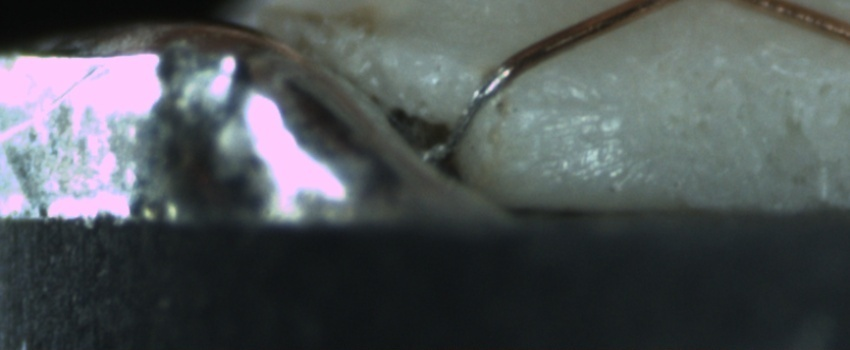DL: (505, 86, 627, 129)
TS: (443, 66, 510, 154)
TTCW: (433, 34, 564, 157)
